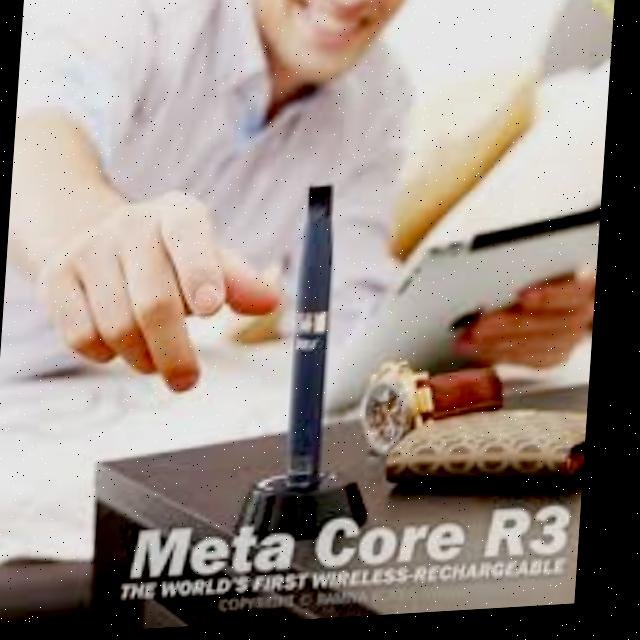vape: (294, 183, 341, 486)
